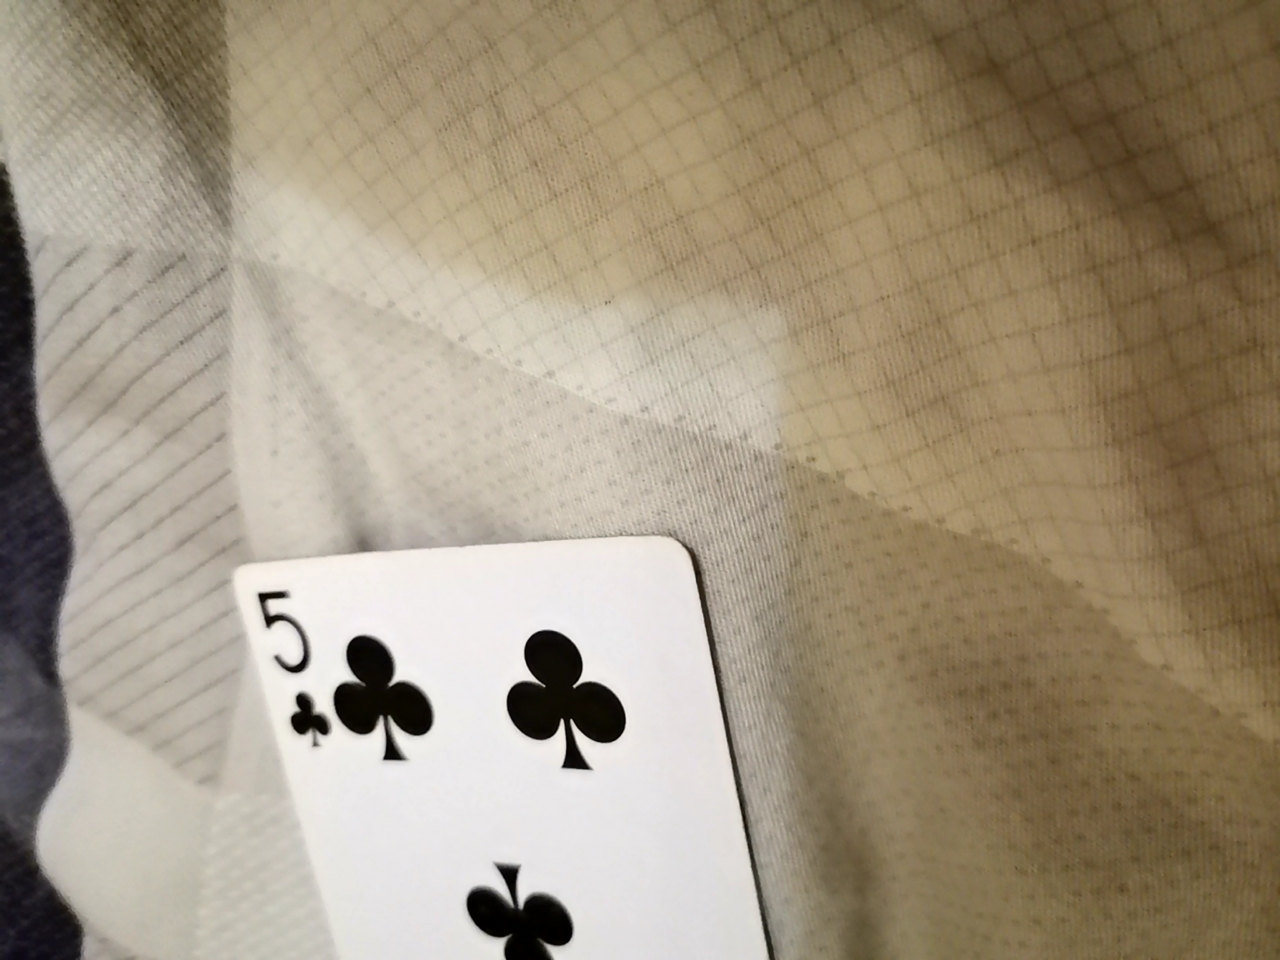mh 5: (234, 535, 776, 960)
